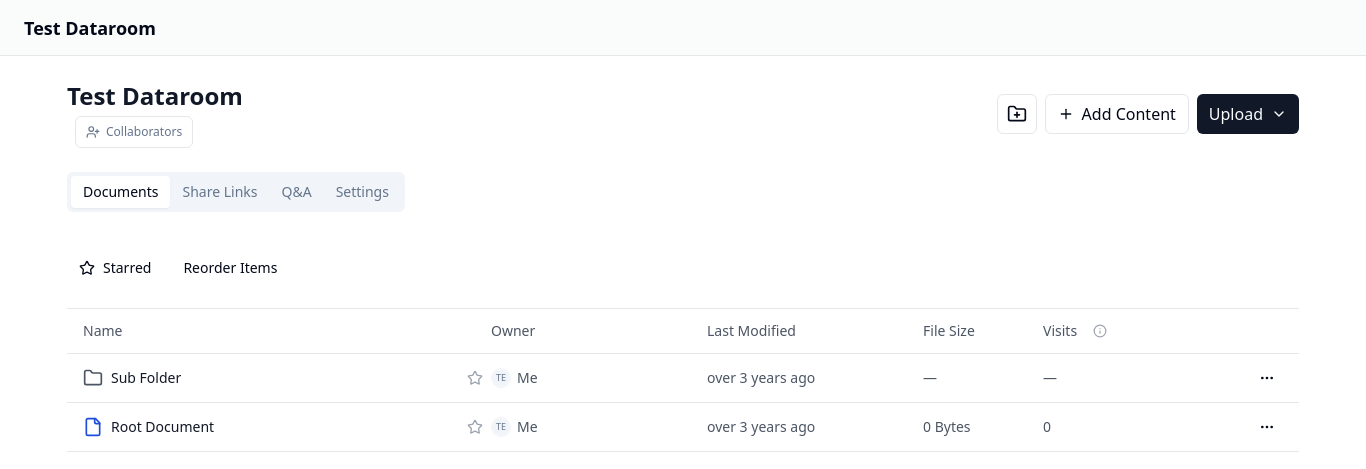
it: DataroomPage › Folder Navigation › should navigate back to root when breadcrumb is clicked
Navigate into folder first
Click the button "Sub Folder": (146, 378) [111,368,181,388]
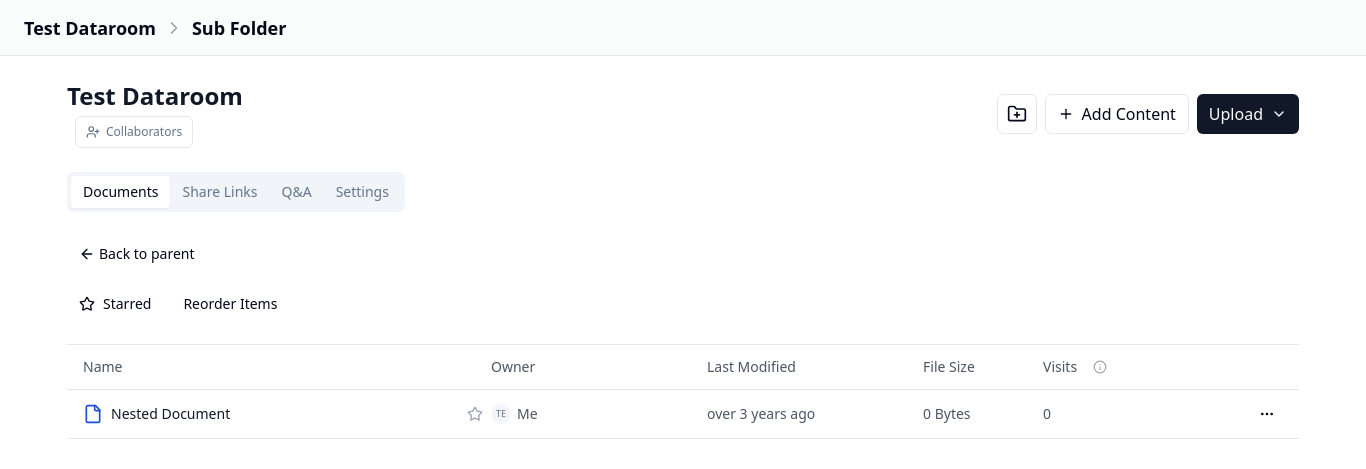
Result: the button "Nested Document" is shown at [111,404,230,424]
Navigate back using breadcrumb
Click the button "Test Dataroom": (90, 28) [24,14,156,42]
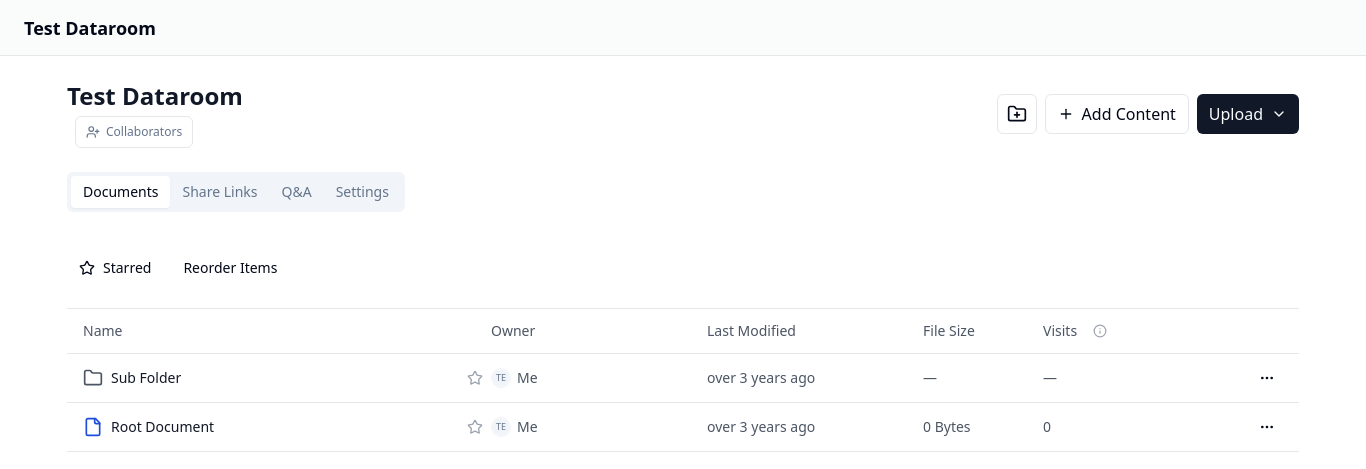
Result: the button "Root Document" is shown at [111,417,214,437]
Result: the button "Nested Document" is gone
